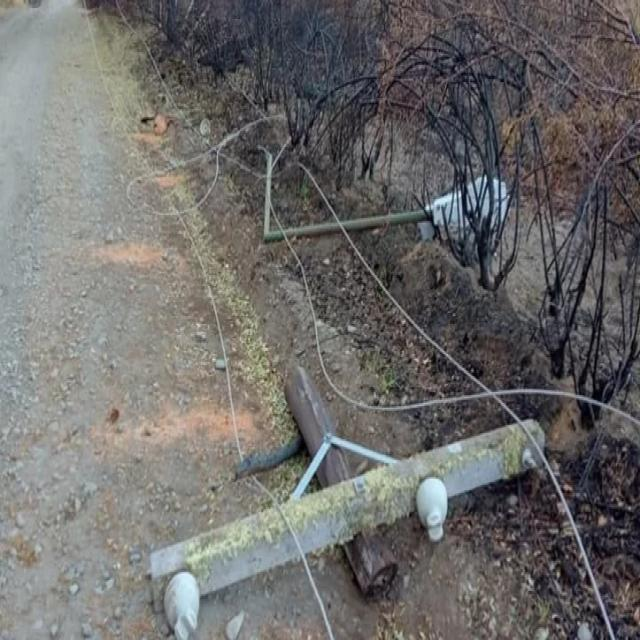Inclined Pole: (141, 363, 547, 638), (259, 139, 512, 265)
